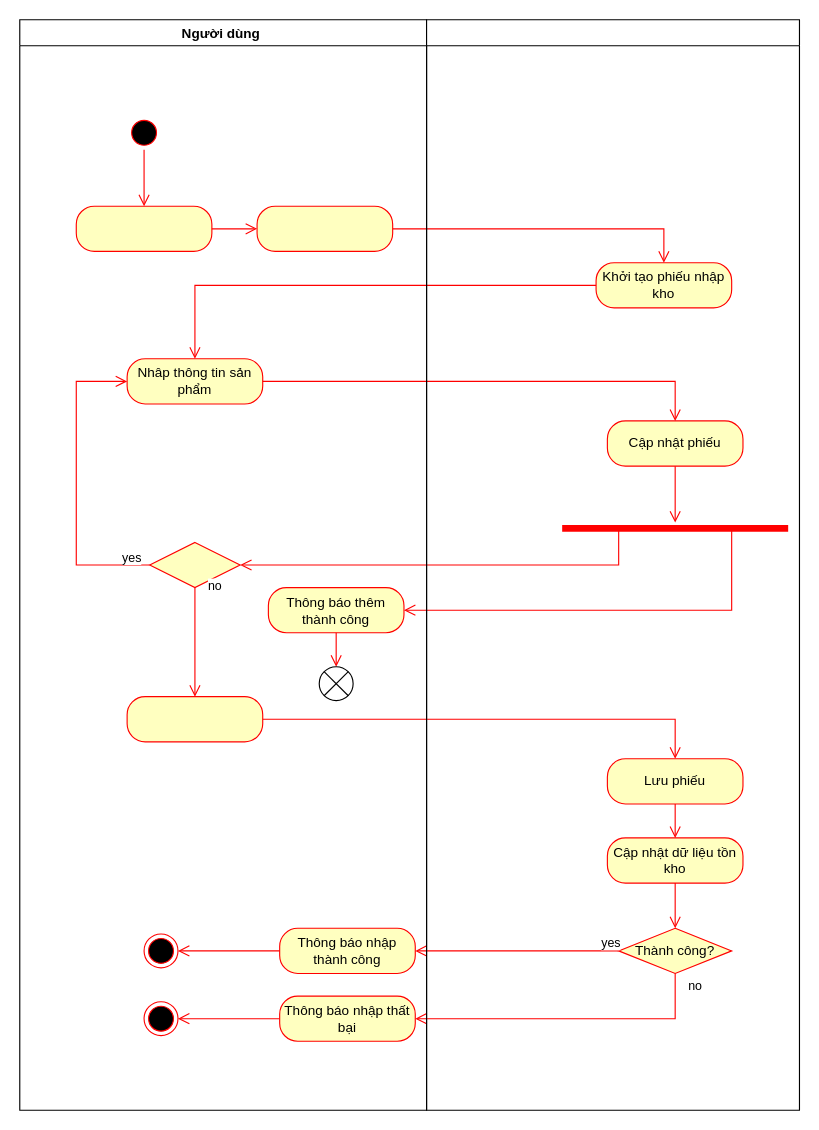
This 819x1130 diagram has some shape labels left out. The centre of each missing label's shape, as x and y in pixels:
"Hệ thống" goes at [612,564].
"Nhập kho" goes at [324,228].
"Nhập tiếp?" goes at [194,564].
"Quản lý hàng hóa" goes at [143,228].
"Xác nhận tạo phiếu" goes at [194,719].
